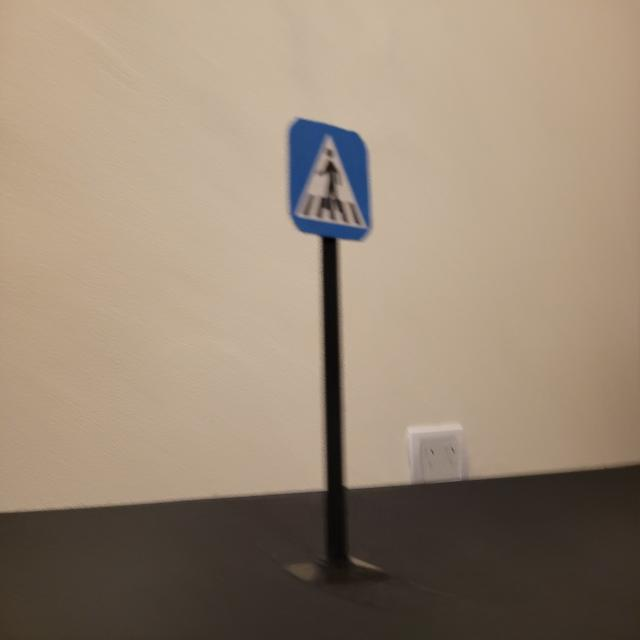crosswalk: (286, 116, 373, 246)
